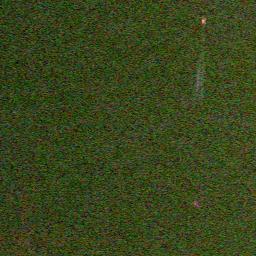Ship: (197, 16, 212, 27)
